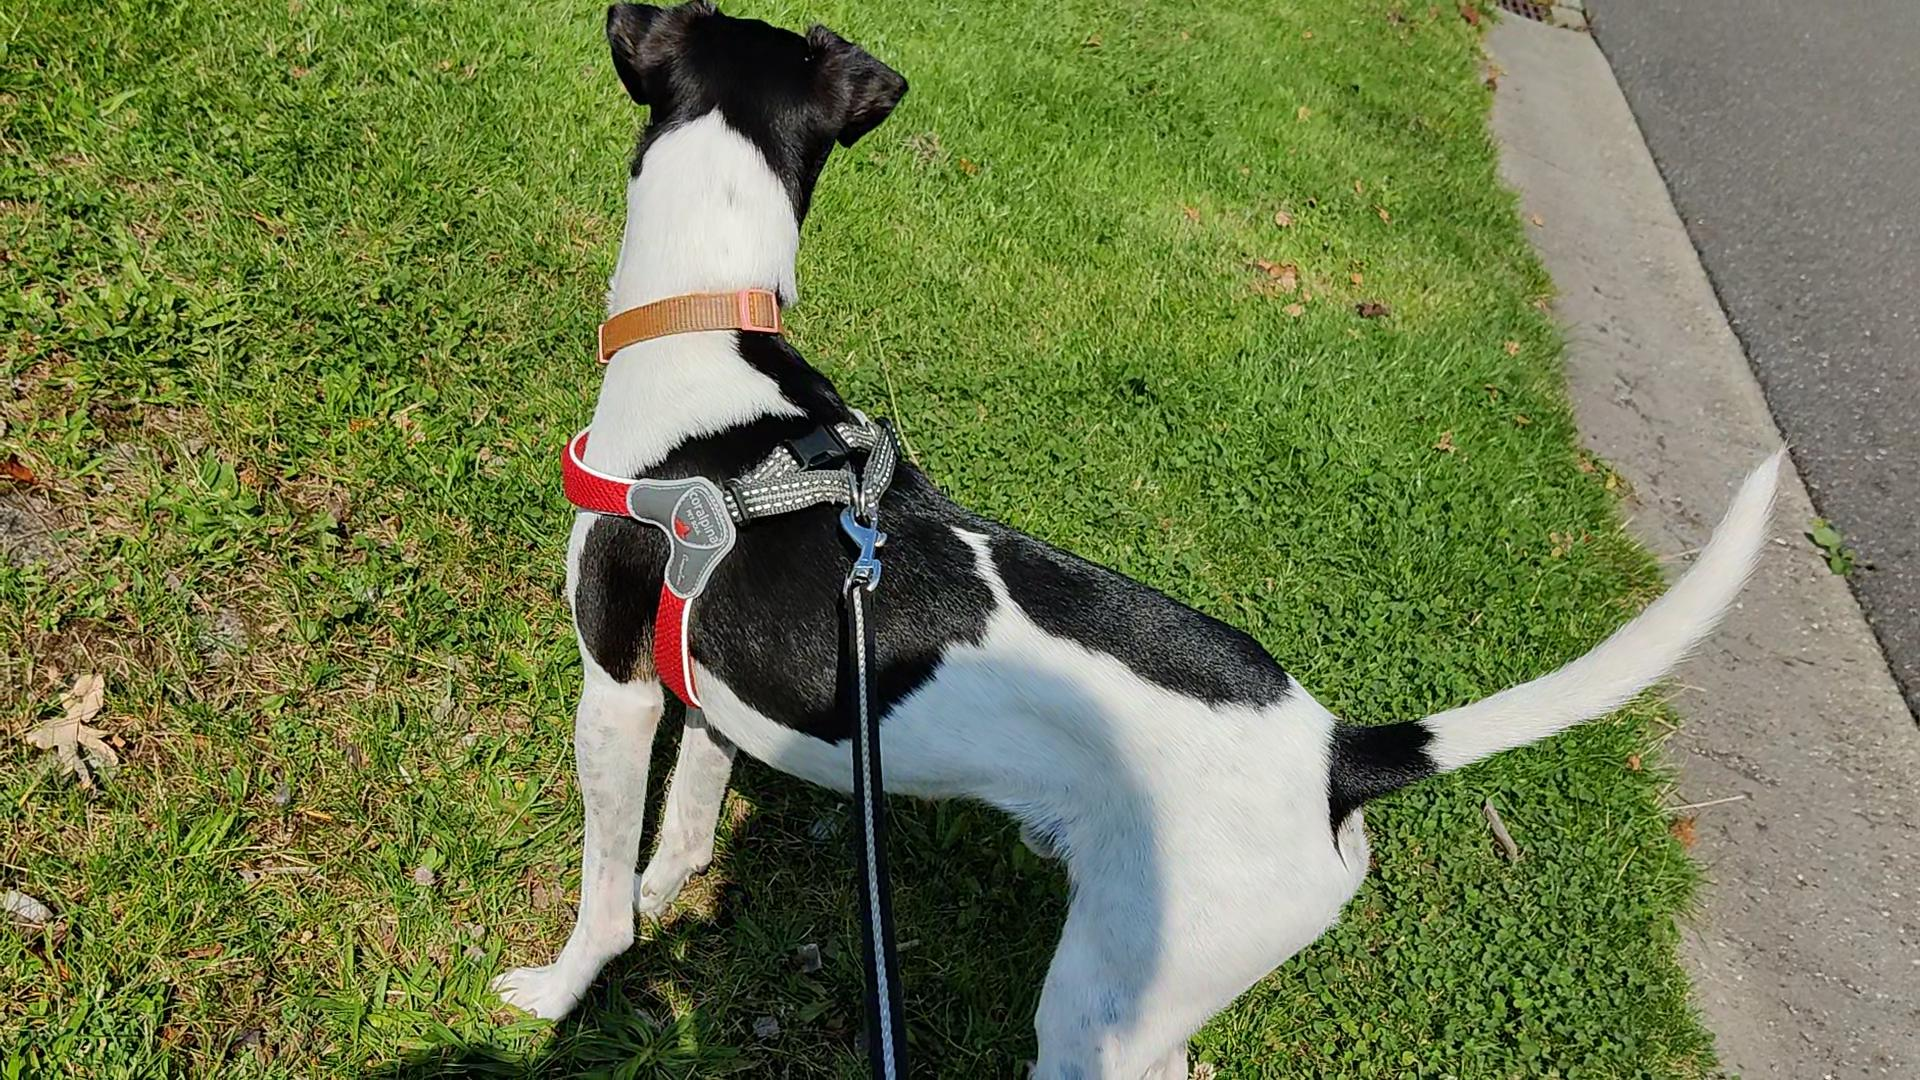Dog: (476, 0, 1787, 1079)
